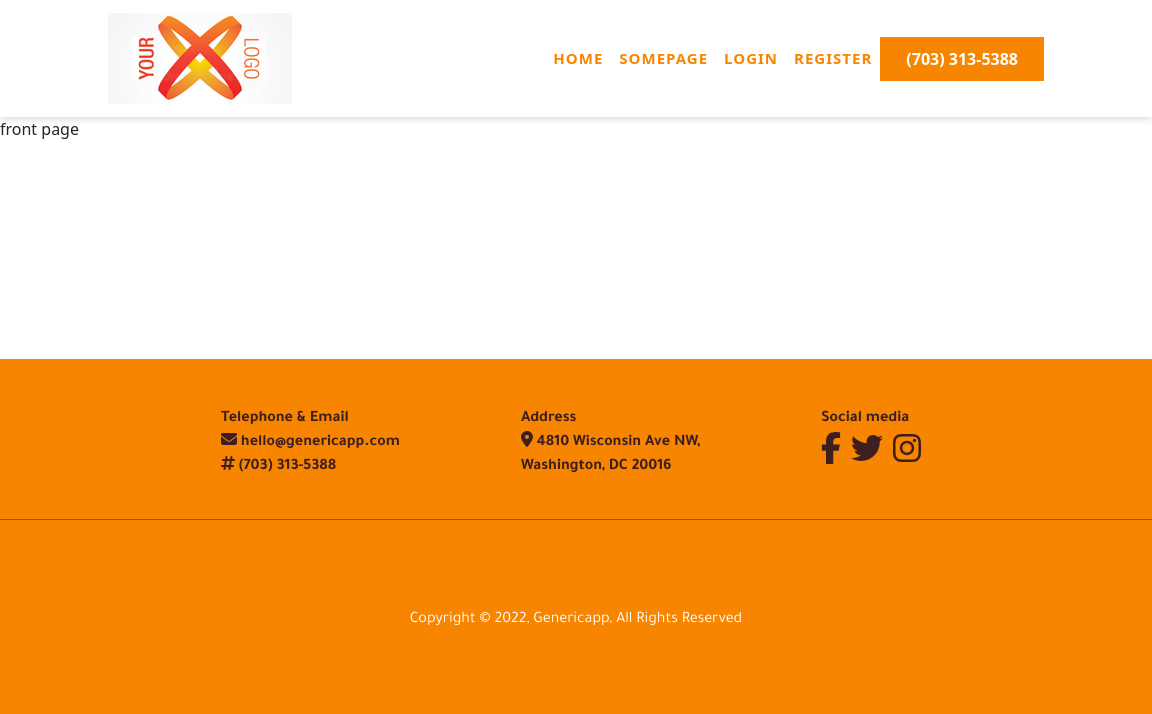
genericapp app › as an unregistered guest › user interacts with the navbar › takes them to the registration page upon clicking "register"
Expected: the element with id "main-routes-content" is shown, [0, 118, 79, 140]
Click the link "Register" at [833, 58], box [794, 48, 872, 68]
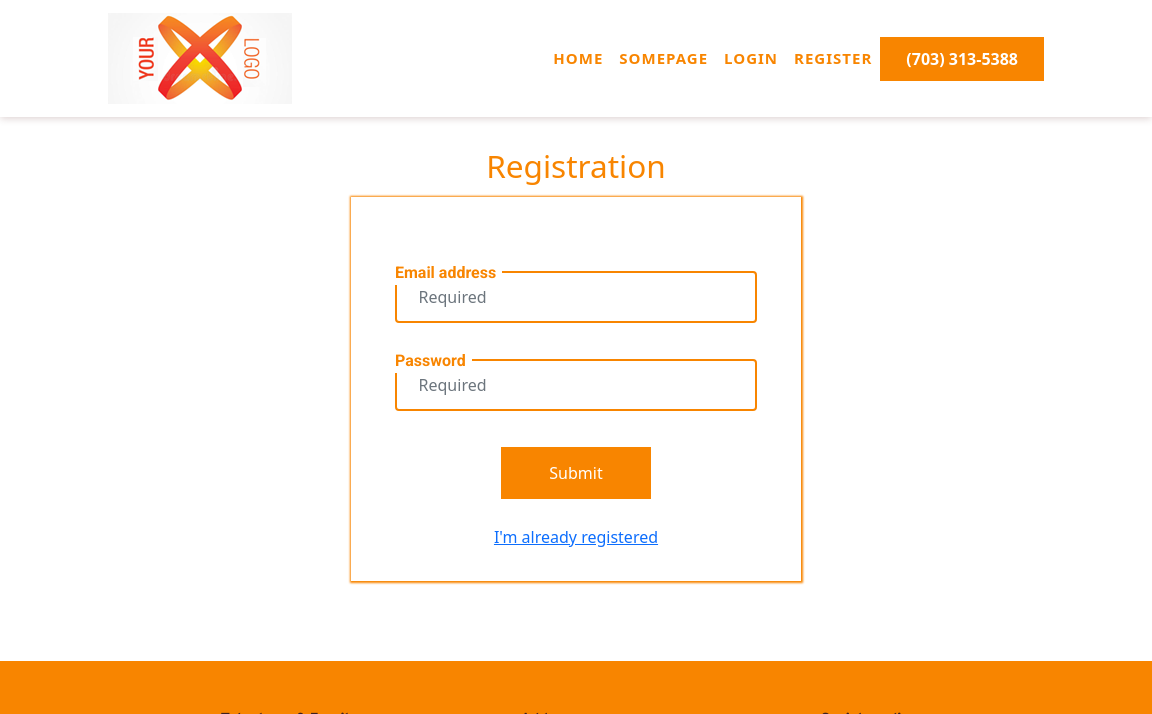
Expected: the link "I'm already registered" is shown, [494, 525, 658, 549]
